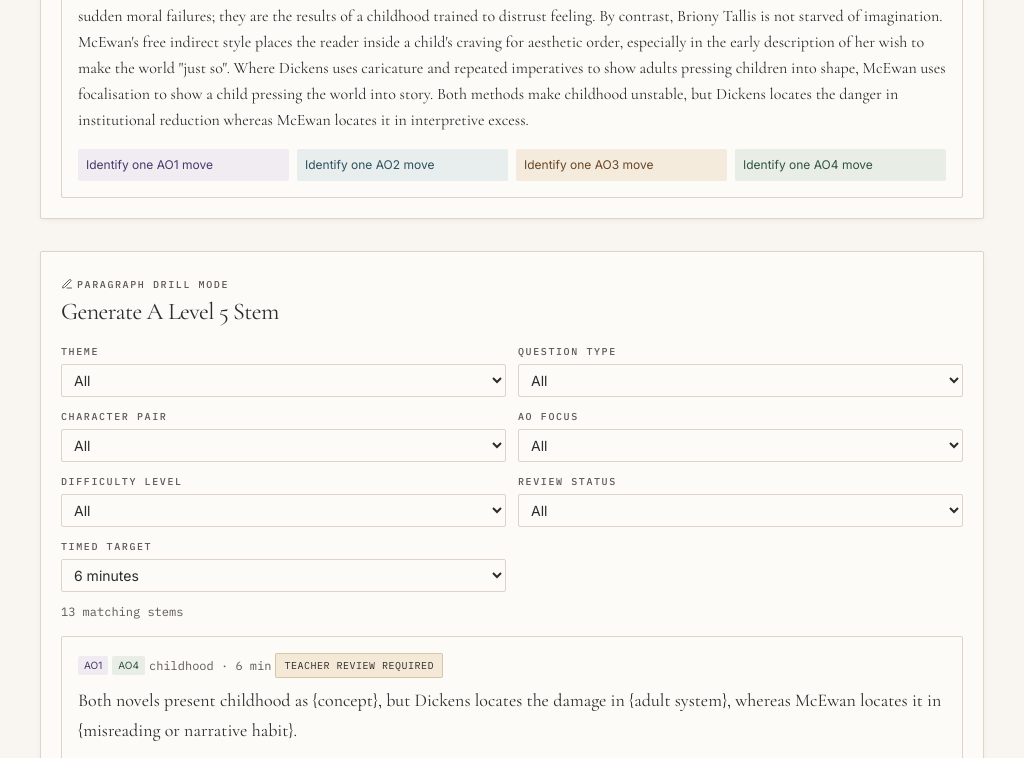
AnnotatedEssayPack › filters paragraph stems by theme in drill mode
This screenshot has width=1024, height=758.
(page scrolled)
Select "marriage" in the dropdown labelled "Theme" at (284, 381), box [61,364,506,397]
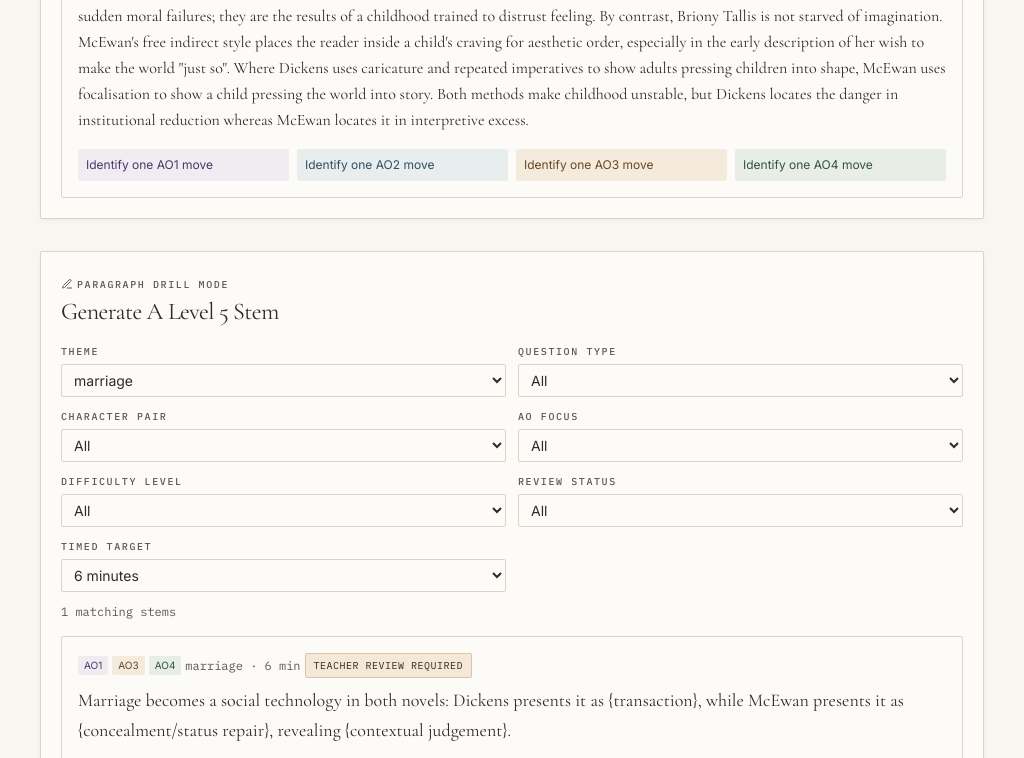
Check: the text "Marriage becomes a social technology" is shown, box [78,689,904,741]
